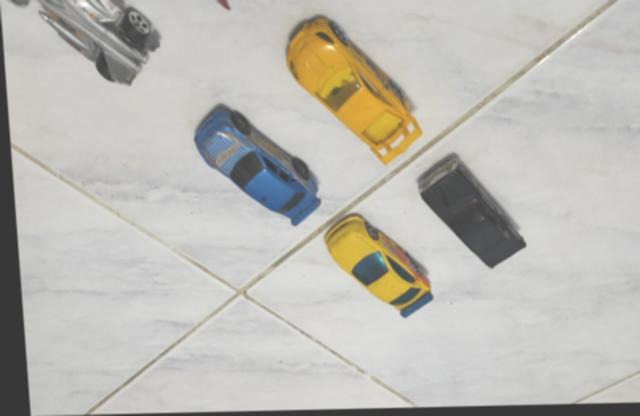01_FORD: (414, 156, 524, 270)
02_OZSOME: (318, 214, 430, 323)
03_V8: (212, 0, 231, 13)
04_MERZEDES: (191, 102, 318, 227)
05_DC121: (8, 0, 160, 85)
07_RHLTURBO: (284, 14, 422, 167)
